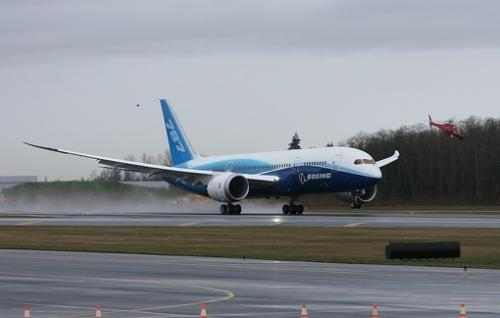airplane: (22, 94, 405, 218)
